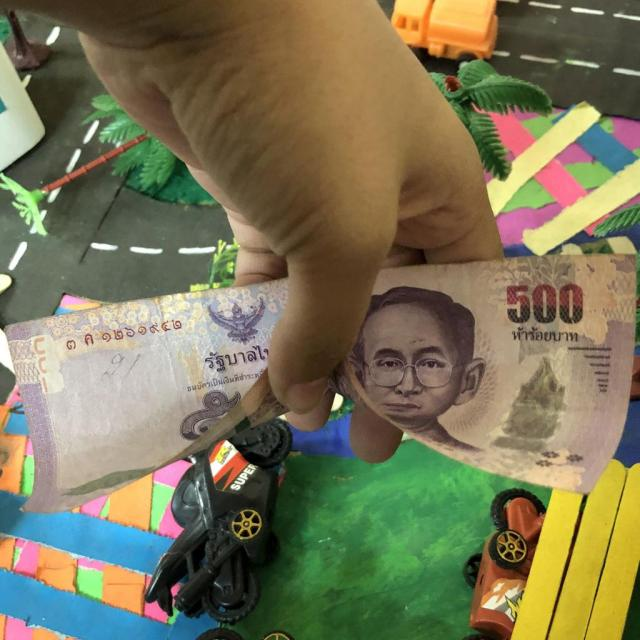THAI500: (331, 254, 634, 491), (7, 281, 288, 512)
